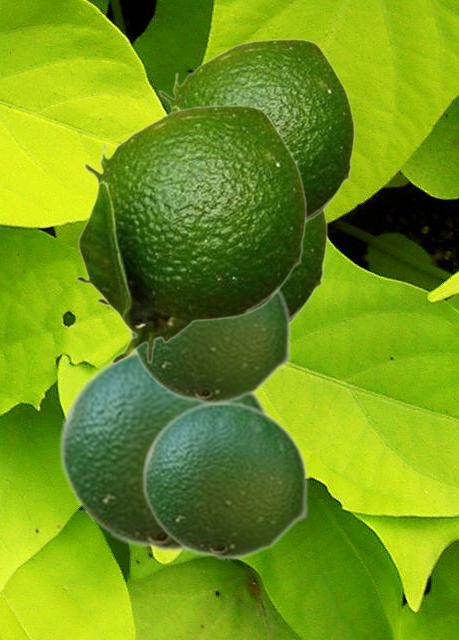dalandan: (74, 104, 306, 364), (58, 349, 273, 553), (157, 38, 354, 221), (141, 400, 308, 560), (95, 210, 327, 322), (128, 289, 291, 405)
